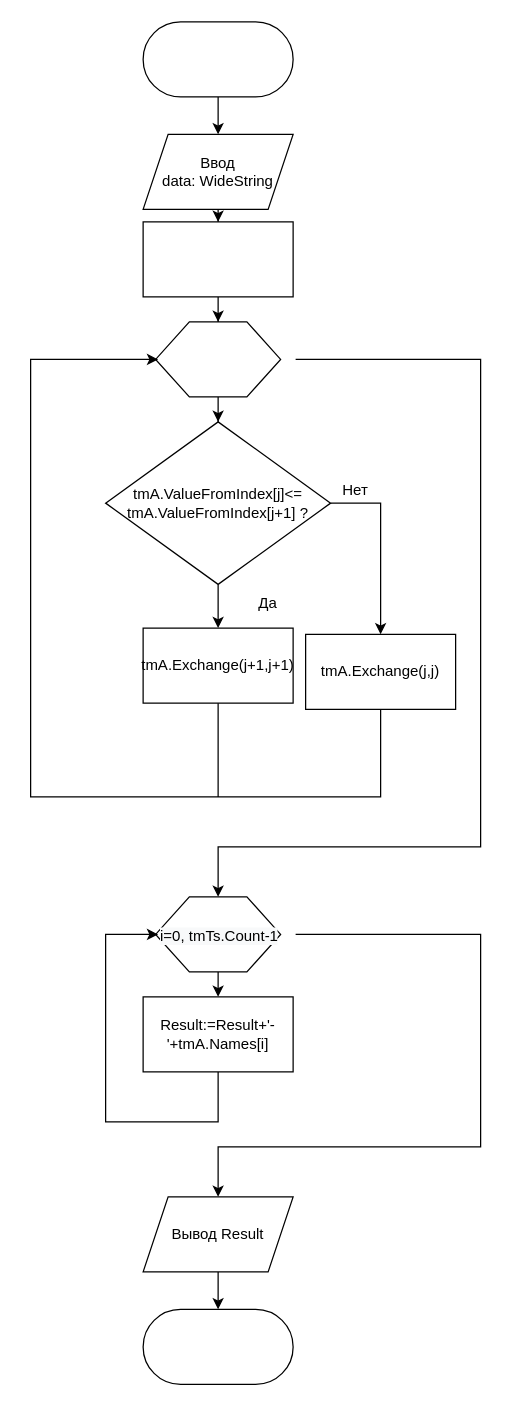
Some shapes in this 513 by 1406 pixel diagram are drawn without their labels. The box of each missing label's shape, as (x1, y1, x2, y2) in pixels:
i=0, tmTs.Count-2: (154, 321, 281, 397)
tmTs = data: (142, 221, 293, 297)
Конец: (142, 1308, 293, 1384)
Начало: (142, 21, 293, 97)
